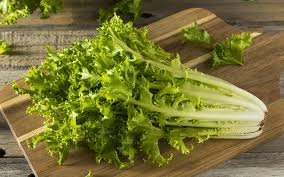Lettuce: (24, 19, 279, 167)
